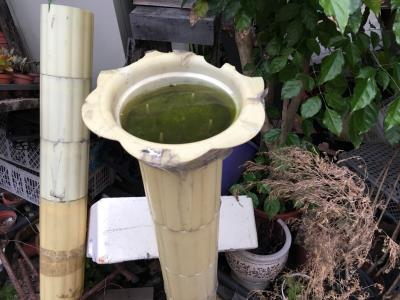bowl: (78, 47, 270, 171)
styrofoam: (83, 194, 264, 265)
